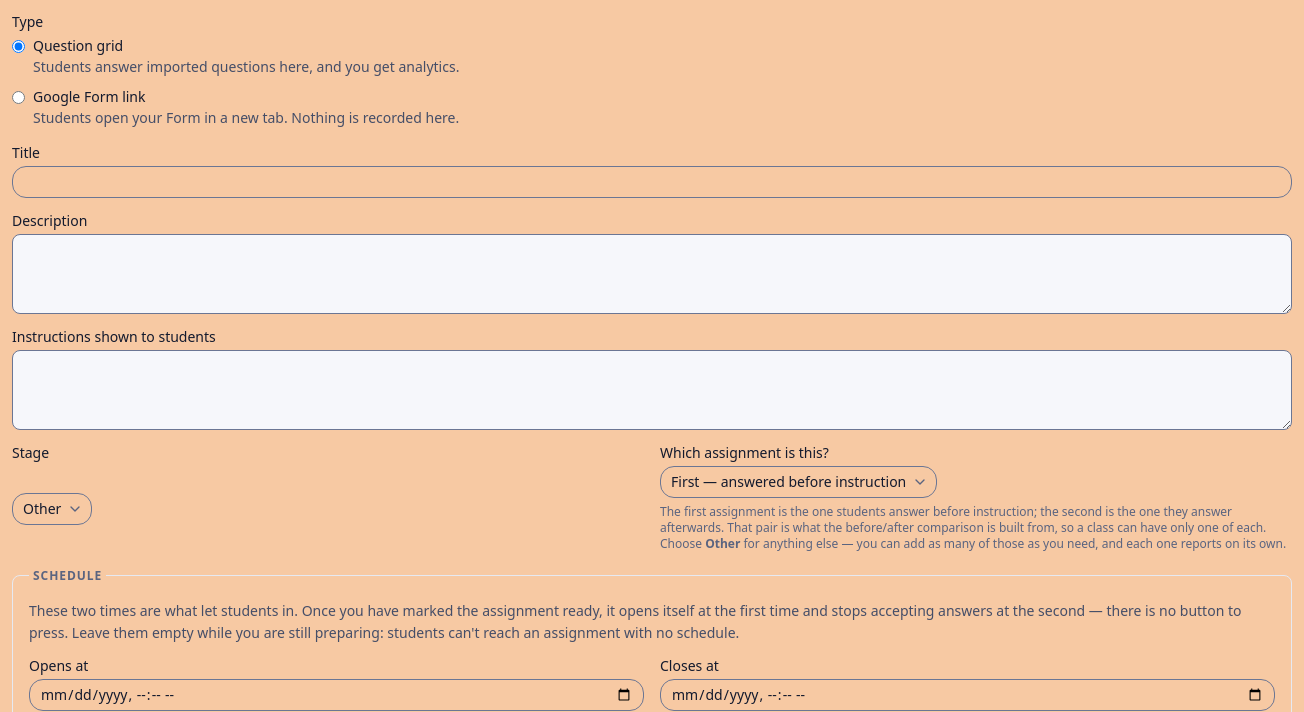
AssignmentForm type choice › warns, without blocking, for a link outside the Google hosts
The width and height of the screenshot is (1304, 712).
Click the radio button labelled "Google Form link" at [18, 97], box [12, 91, 25, 104]
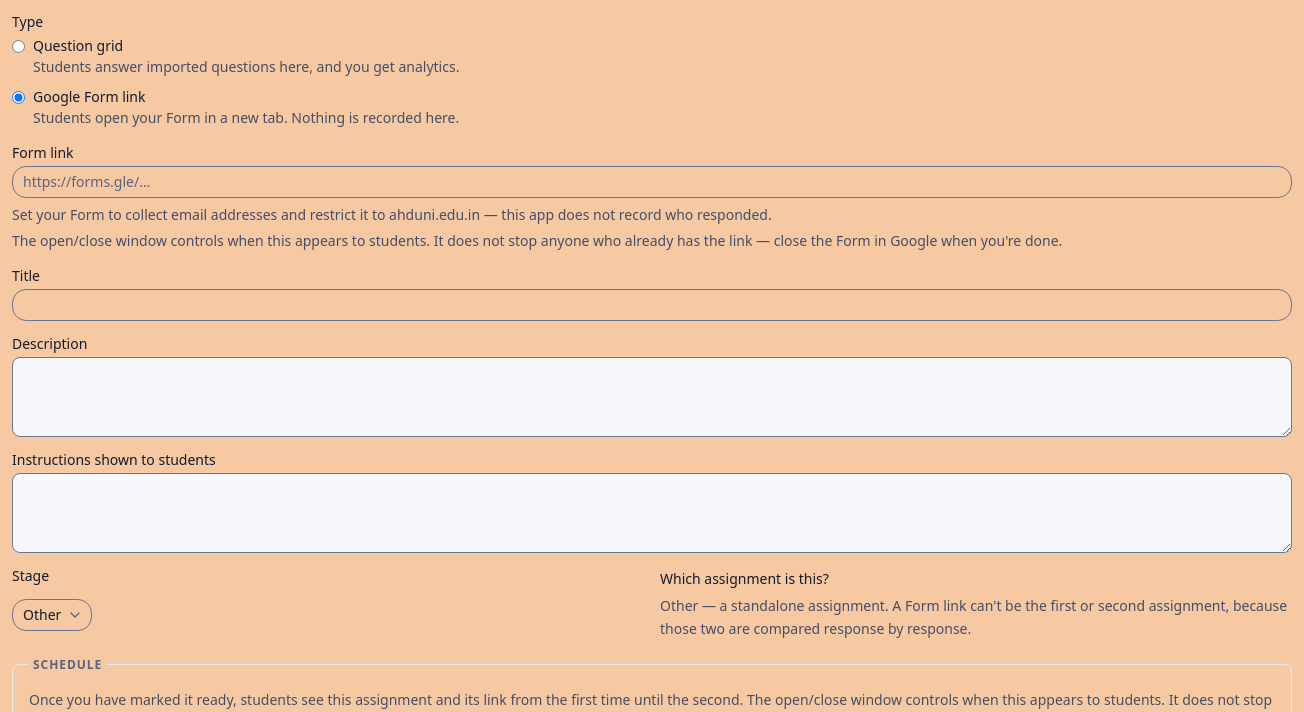
Type "https://example.org/survey" into the field labelled "Form link" at [652, 182], box [12, 166, 1292, 198]
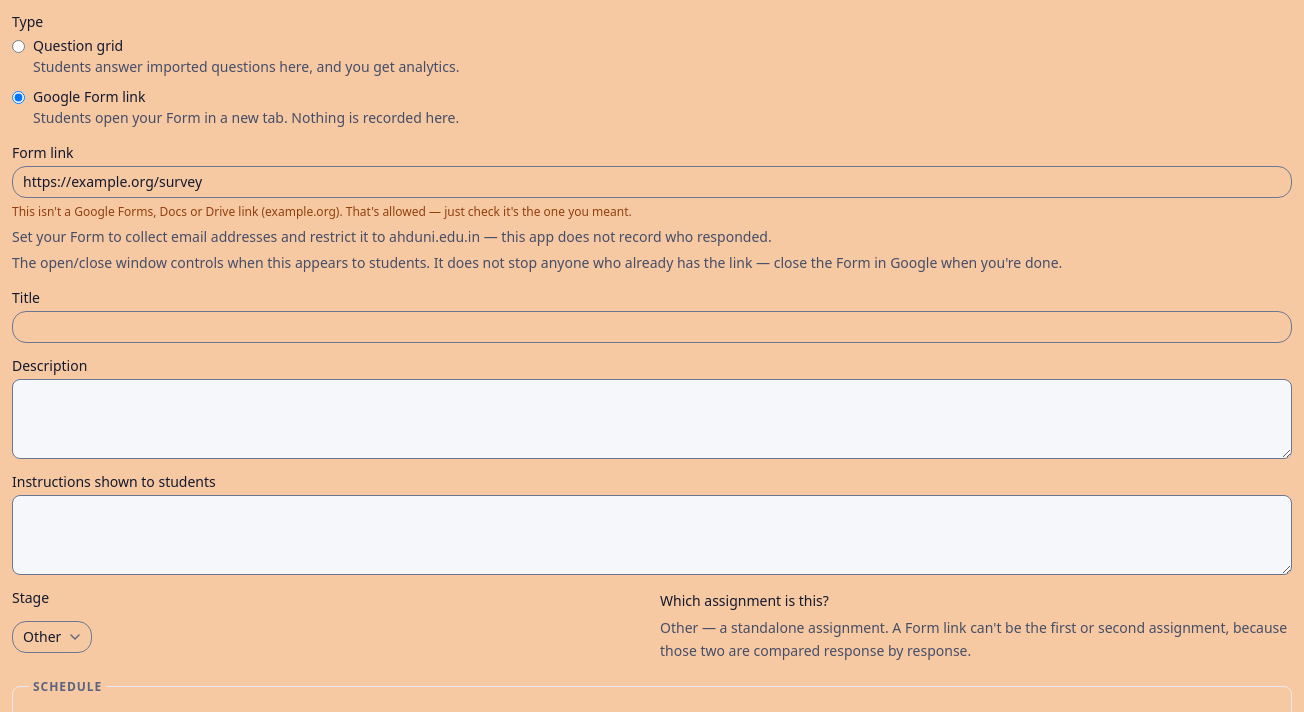
Expected: the text "isn.t a Google Forms, Docs or Drive link" is shown, [12, 202, 632, 220]
